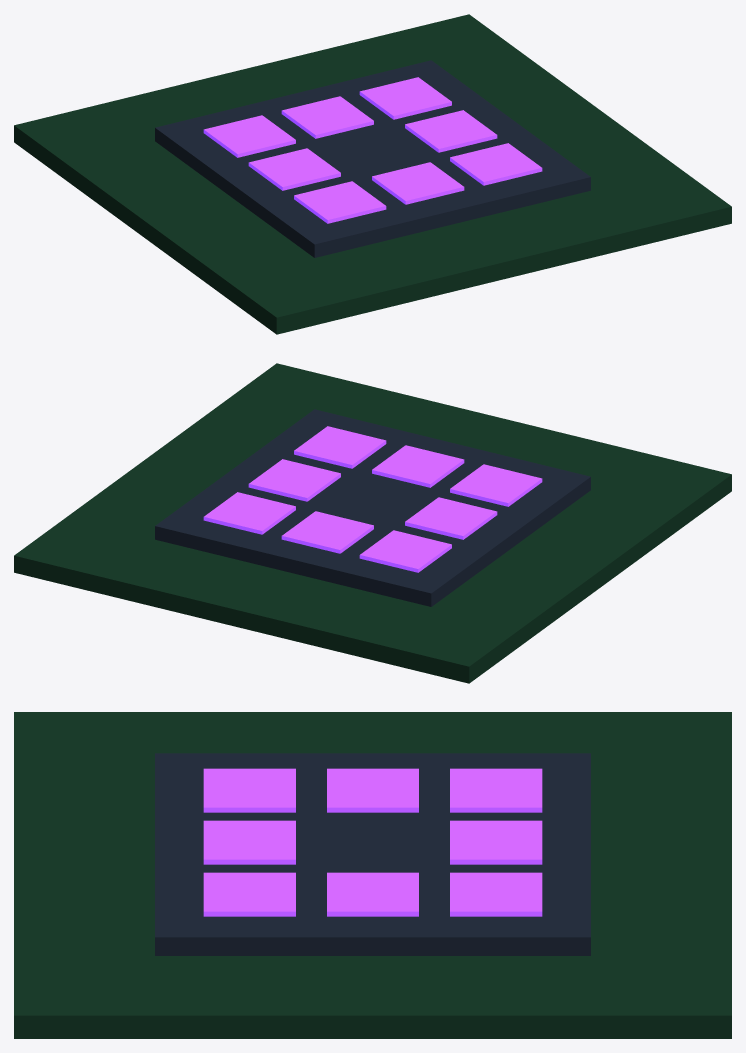
Rendered from cpu.glb.
The picture shows the model from 3 angles, top to bottom: view 1: azimuth 30°, elevation 25°; view 2: azimuth 150°, elevation 25°; view 3: azimuth 270°, elevation 25°; orthographic projection. The views are drawn at different scales.
Visible parts, largest first — view 1: CPUPackage; view 2: CPUPackage; view 3: CPUPackage.
Part boxes in pixels (left/top/right/bottom): CPUPackage: left=14, top=14, right=731, bottom=334; CPUPackage: left=14, top=363, right=731, bottom=683; CPUPackage: left=14, top=712, right=731, bottom=1038.
Bounding box in the file's own units: 1.4 × 0.101 × 1.4.
